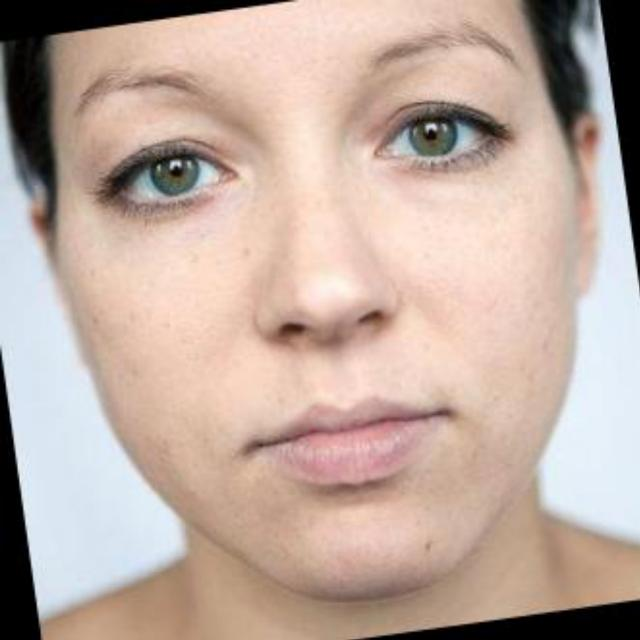Natural: (46, 20, 612, 601)
